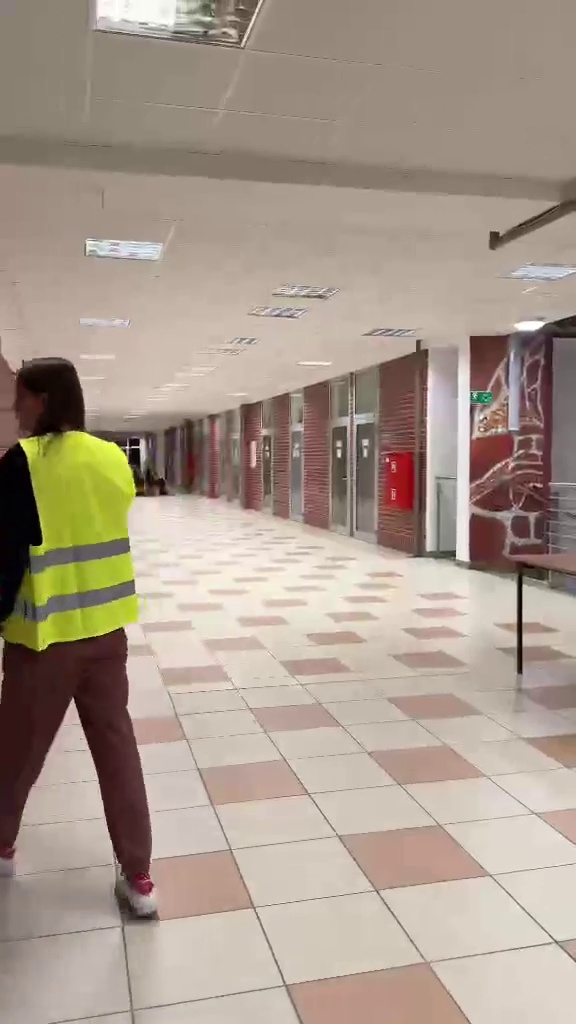vest: (1, 351, 166, 919)
